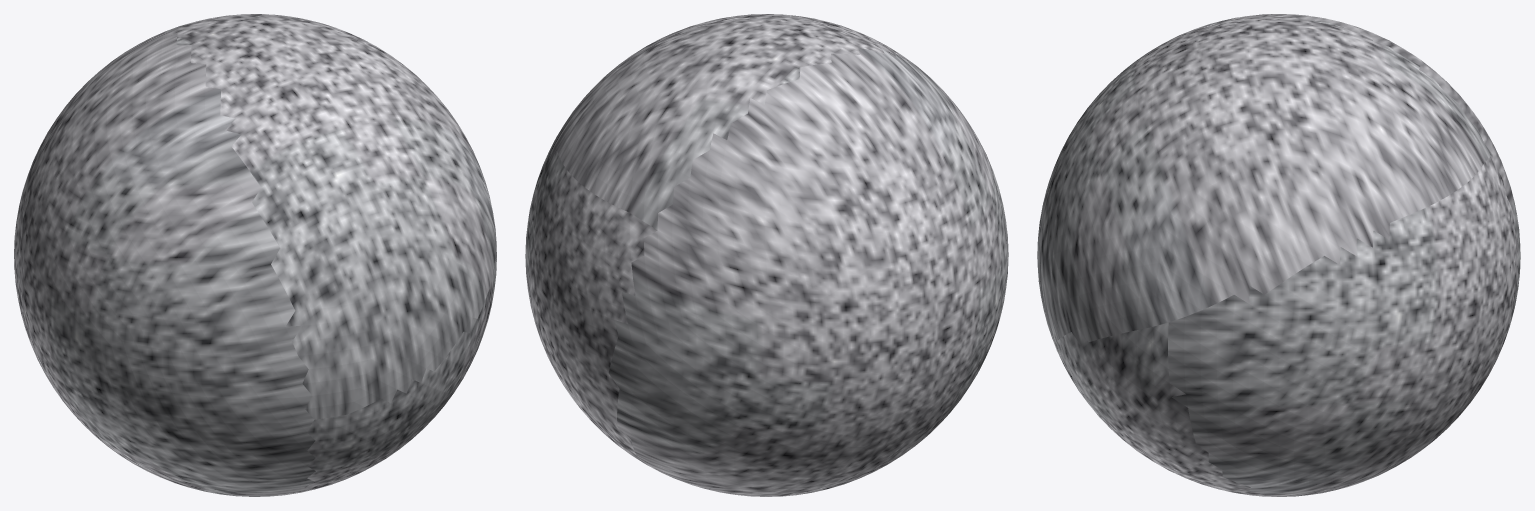
The model's file is Bola.obj.
3 views of the same model, side by side, from view 1: azimuth 30°, elevation 25°; view 2: azimuth 150°, elevation 25°; view 3: azimuth 270°, elevation 25° (orthographic).
Visible parts, largest first — view 1: Object.1; view 2: Object.1; view 3: Object.1.
Part boxes in pixels (bbox=[...]): Object.1: bbox=[14, 14, 496, 496]; Object.1: bbox=[525, 14, 1008, 496]; Object.1: bbox=[1037, 14, 1520, 496].
Bounding box in the file's own units: 40 × 40 × 40.
1 material, 1 textured.
